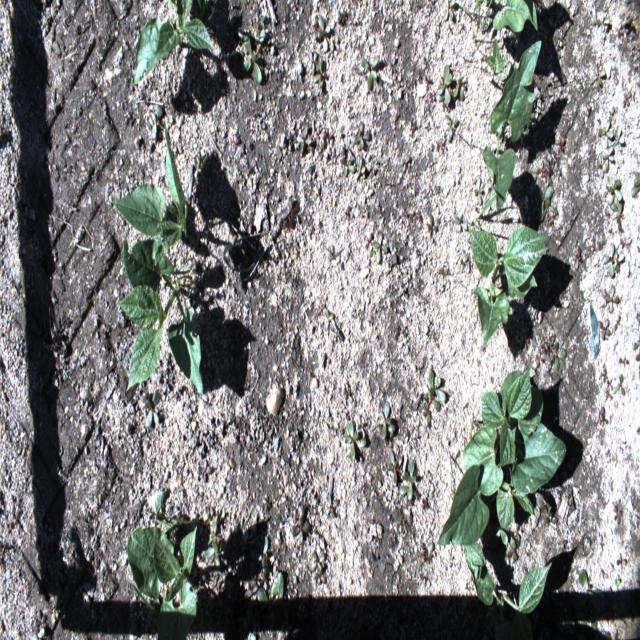crop: (434, 361, 566, 546), (114, 237, 204, 396), (108, 118, 189, 266), (127, 487, 202, 639), (482, 39, 541, 216), (467, 224, 548, 350), (464, 528, 553, 640), (132, 0, 216, 88), (474, 0, 537, 33)
weed: (421, 368, 446, 420), (242, 32, 264, 84), (344, 418, 366, 464), (490, 526, 518, 562), (437, 64, 456, 110), (483, 39, 507, 74), (536, 186, 558, 222), (602, 242, 625, 276), (376, 401, 396, 440), (310, 14, 330, 52), (307, 49, 325, 91), (360, 54, 379, 92), (280, 196, 301, 229), (203, 540, 222, 576), (351, 120, 372, 150), (387, 448, 403, 487), (403, 459, 417, 501), (371, 230, 388, 264), (598, 146, 614, 179), (292, 516, 310, 544), (604, 176, 622, 203), (598, 119, 613, 151), (610, 196, 623, 232), (551, 340, 566, 371), (452, 74, 468, 100), (610, 125, 625, 152), (588, 64, 606, 86), (605, 285, 619, 313), (612, 373, 626, 396), (443, 0, 454, 21)
